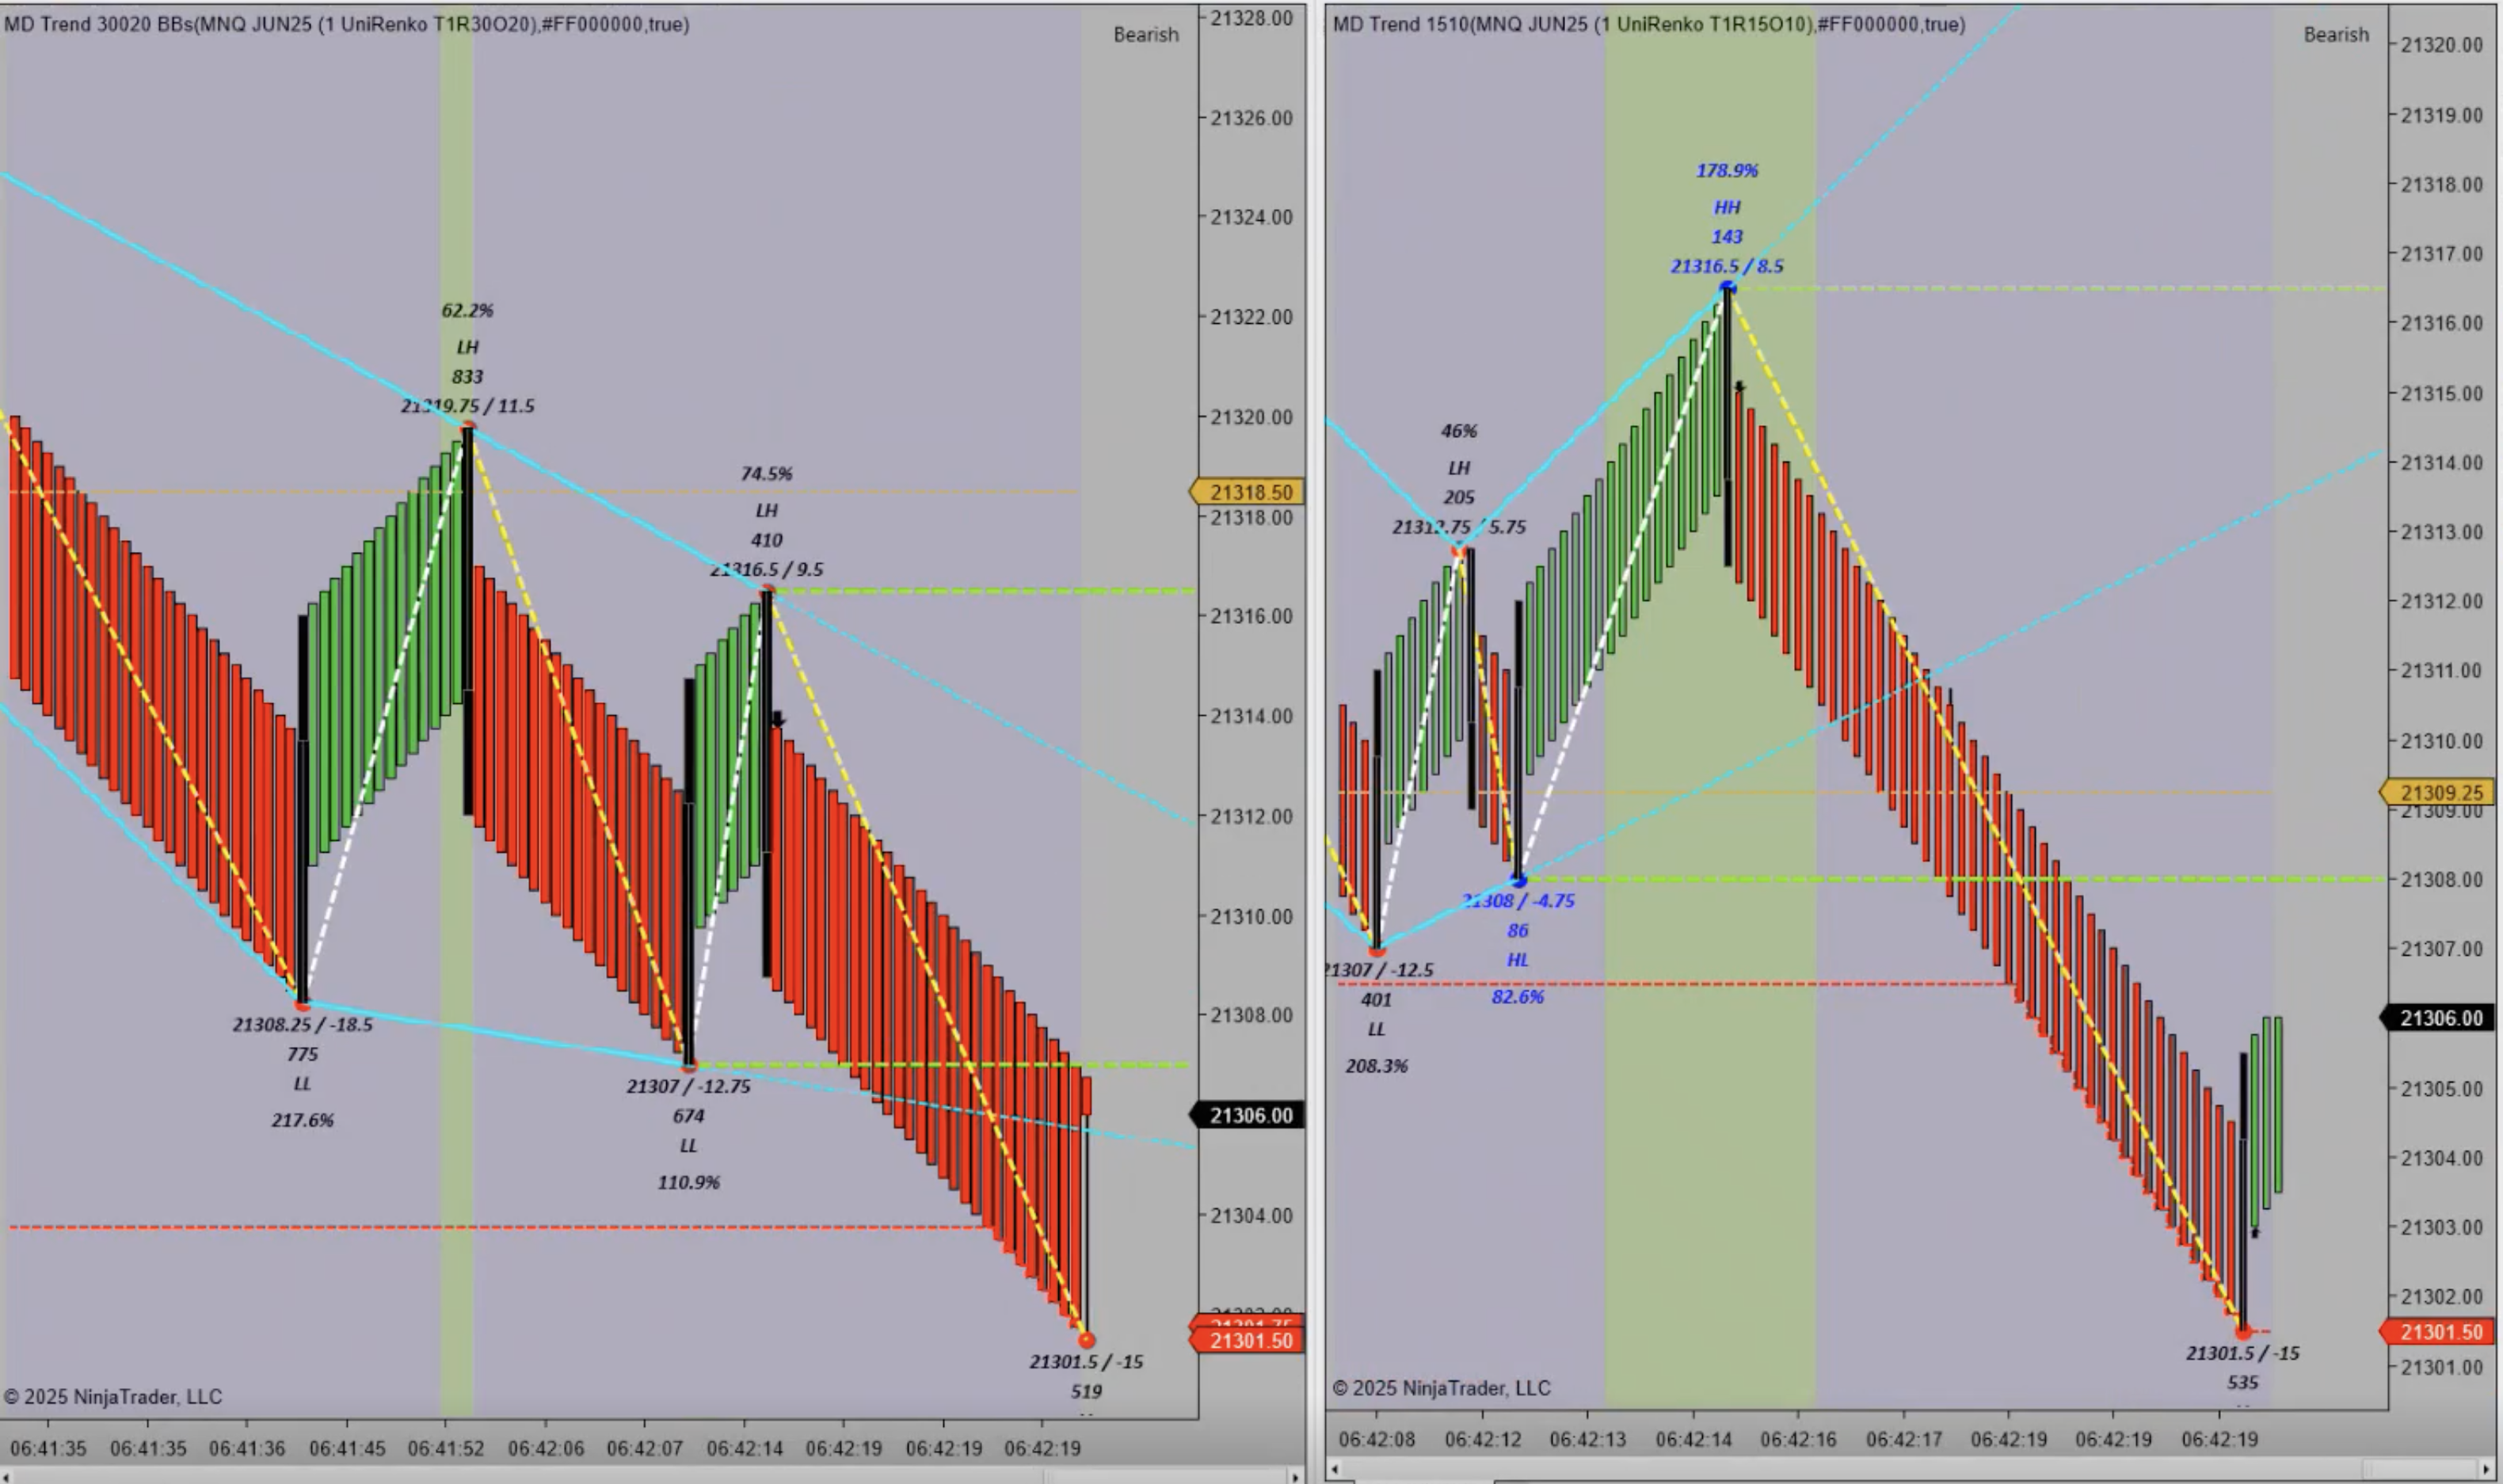candle: (457, 424, 480, 829), (754, 585, 777, 988), (297, 615, 318, 1009), (680, 675, 699, 1065), (1719, 279, 1743, 574), (1509, 597, 1533, 869), (1463, 541, 1486, 818), (2236, 1051, 2256, 1323), (1371, 666, 1385, 956)
